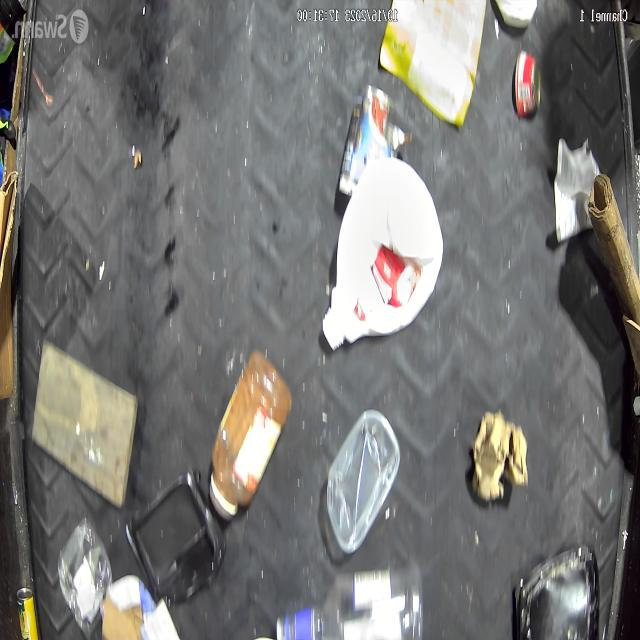can: (337, 85, 391, 195), (509, 46, 542, 126)
milk_jug: (316, 152, 446, 356)
plastic_bottle: (207, 351, 290, 526)
